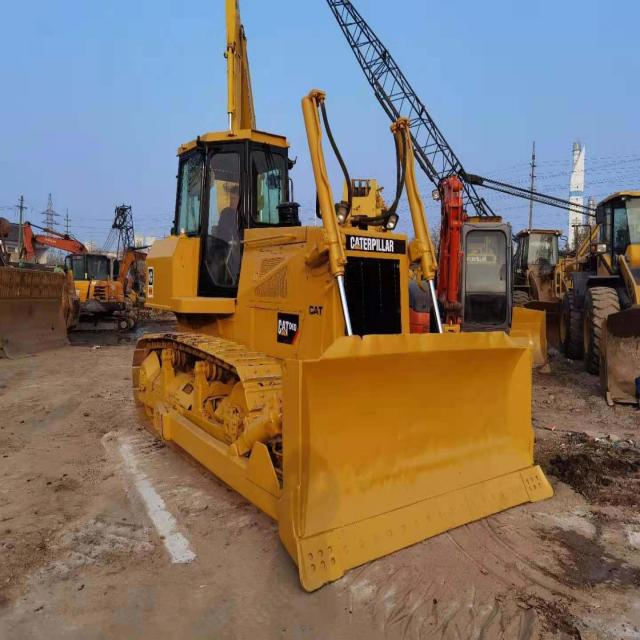Bulldozer: (103, 86, 566, 581)
